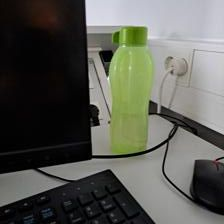bottle: (106, 24, 155, 156)
